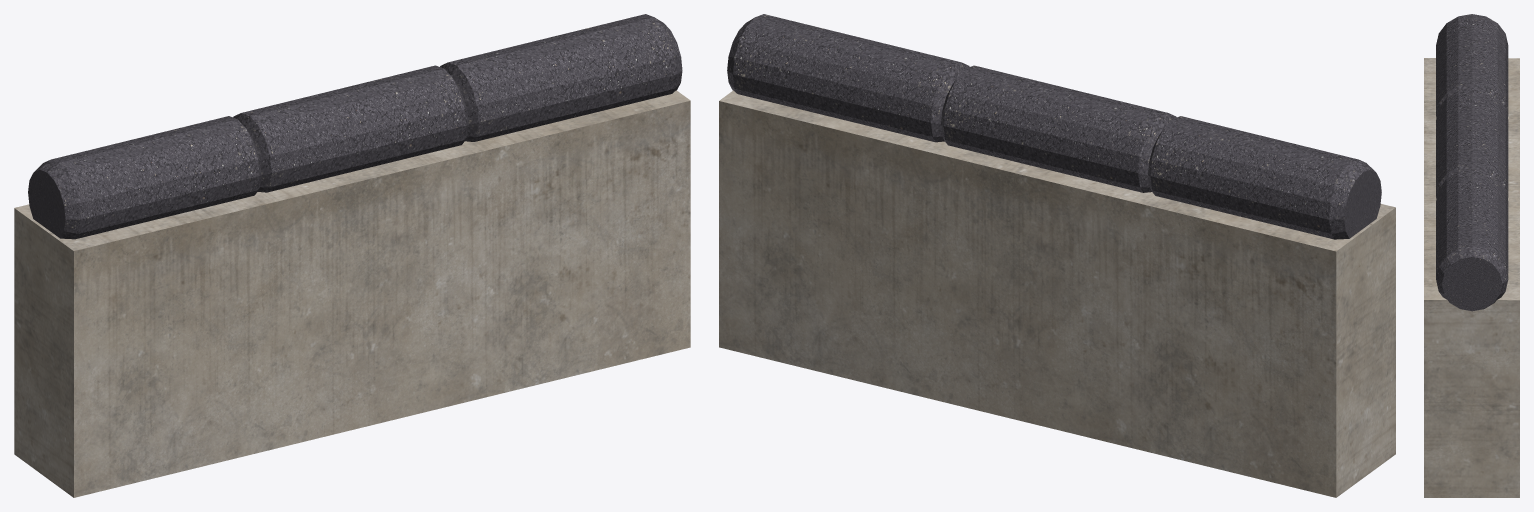
Rendered from SM_R_MiddleRoof_1.fbx.
3 views of the same model, side by side, from view 1: azimuth 30°, elevation 25°; view 2: azimuth 150°, elevation 25°; view 3: azimuth 270°, elevation 25° (orthographic). The views are drawn at different scales.
Parts seen in each view (by area): view 1: SM_R_MiddleRoof_1; view 2: SM_R_MiddleRoof_1; view 3: SM_R_MiddleRoof_1.
Part boxes in pixels (x1=…): SM_R_MiddleRoof_1: x1=14, y1=14, x2=690, y2=497; SM_R_MiddleRoof_1: x1=719, y1=14, x2=1395, y2=497; SM_R_MiddleRoof_1: x1=1424, y1=14, x2=1519, y2=497.
Bounding box in the file's own units: 283 × 47.25 × 135.
2 materials, 2 textured.
